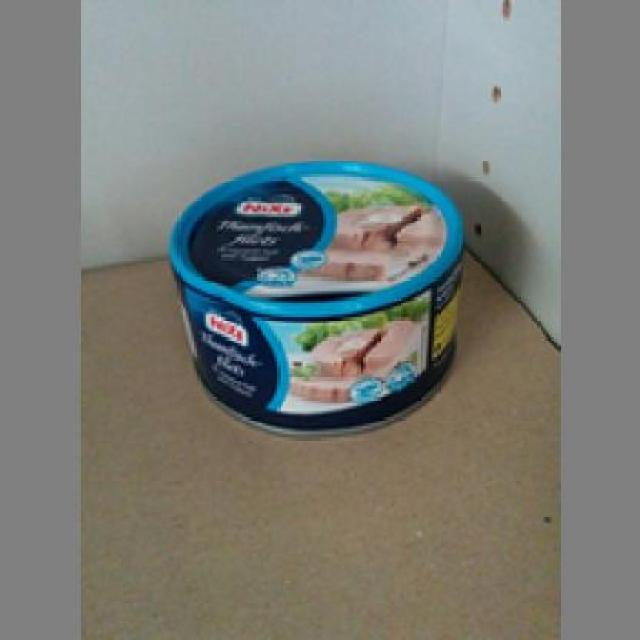Fish: (163, 157, 463, 434)
